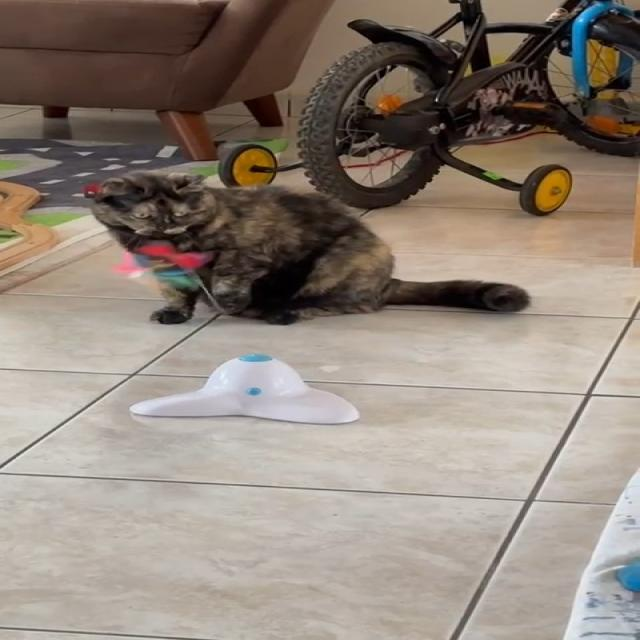authorized: (84, 169, 531, 326)
